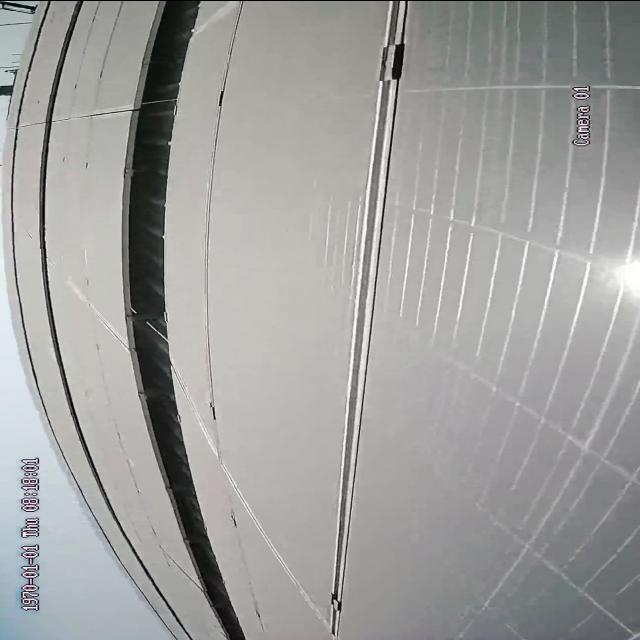interior panel: (326, 1, 411, 635), (184, 399, 325, 622)
outher panel: (122, 2, 245, 639)
